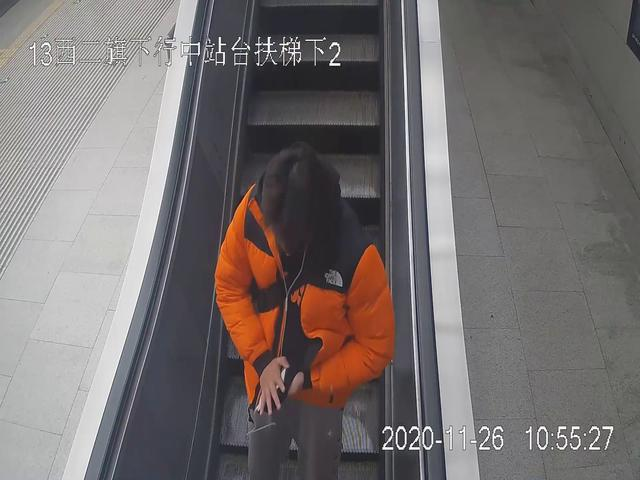person: (215, 145, 395, 480)
